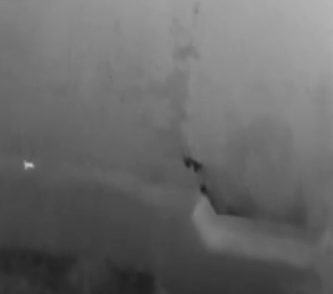Target: (25, 161, 34, 168)
